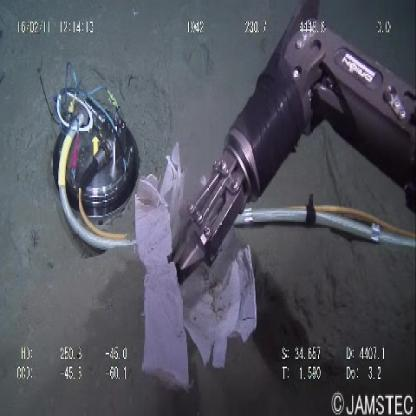Rov: (165, 9, 416, 272), (35, 58, 138, 256)
Rác: (137, 140, 262, 393)
